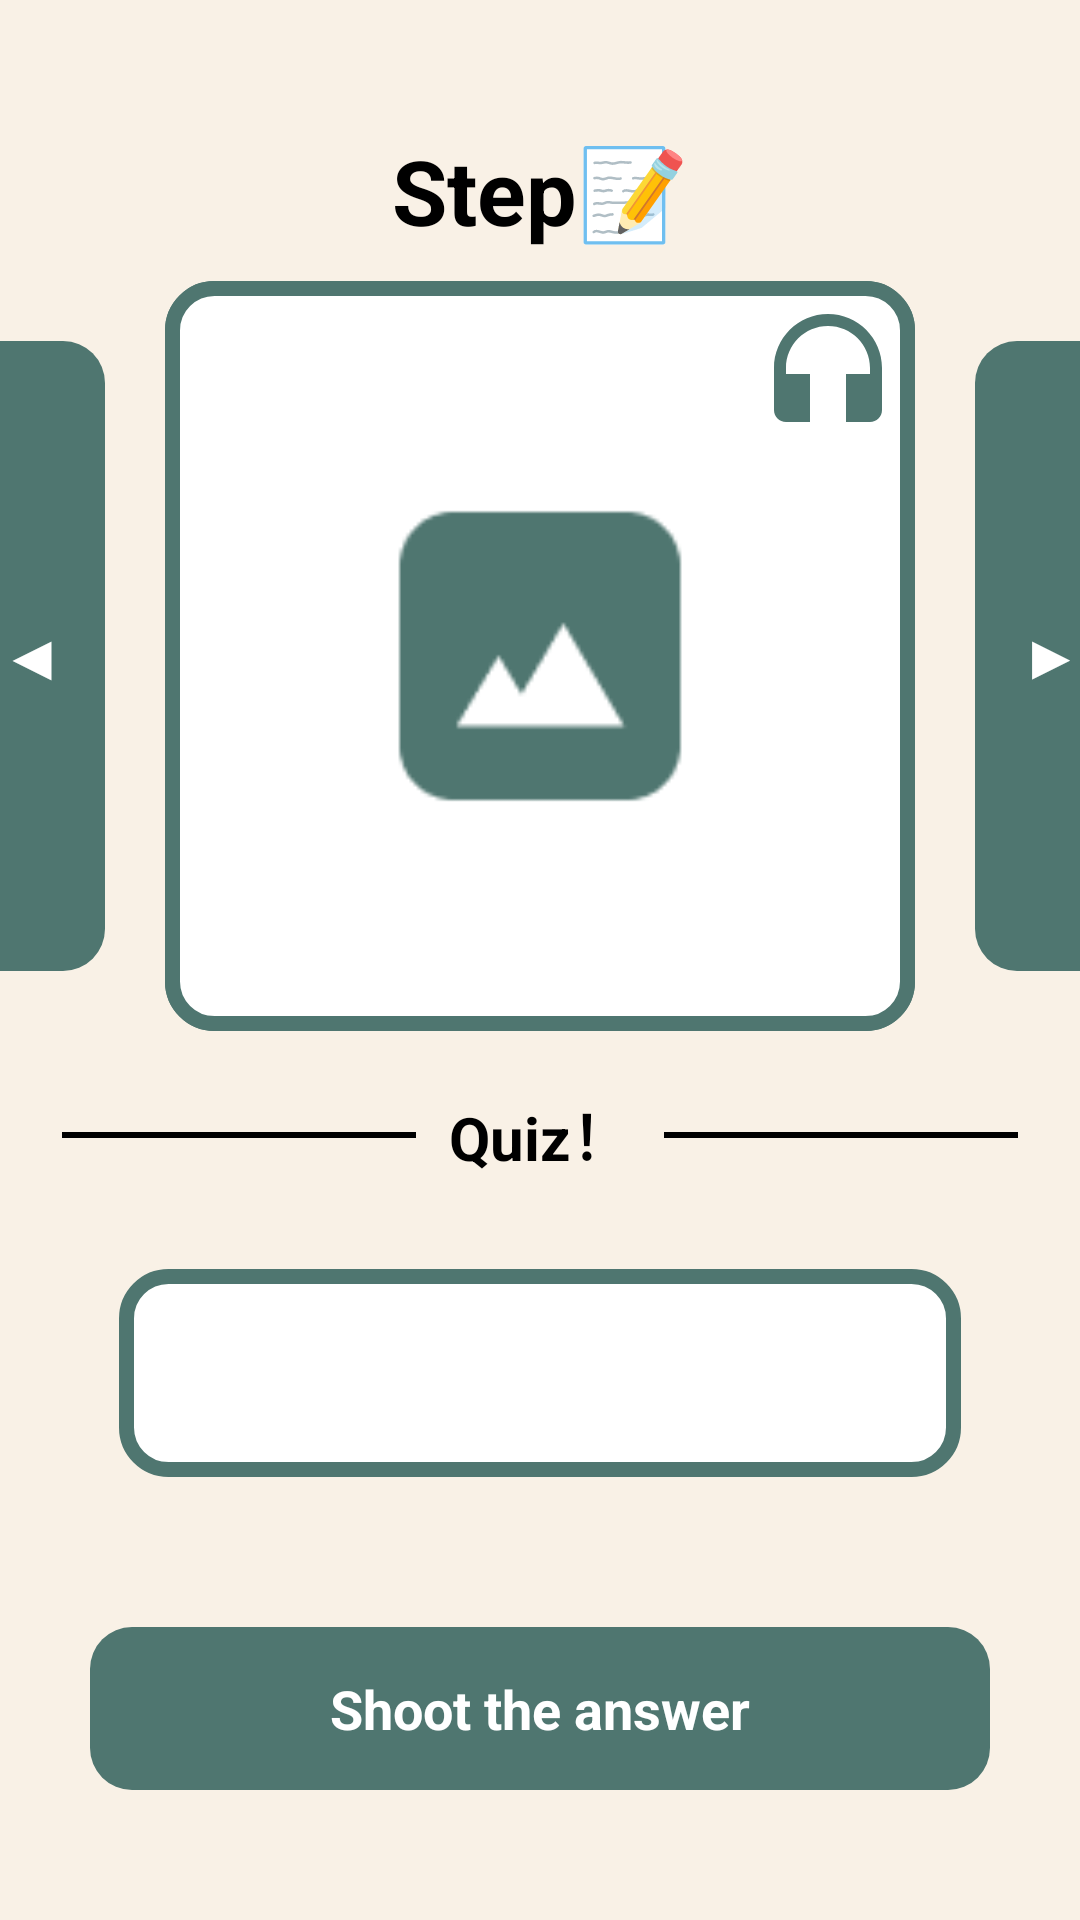

Icon click points for this 1080 × 1920 phone screenshot, format point (x, y):
voice: point (828, 368)
